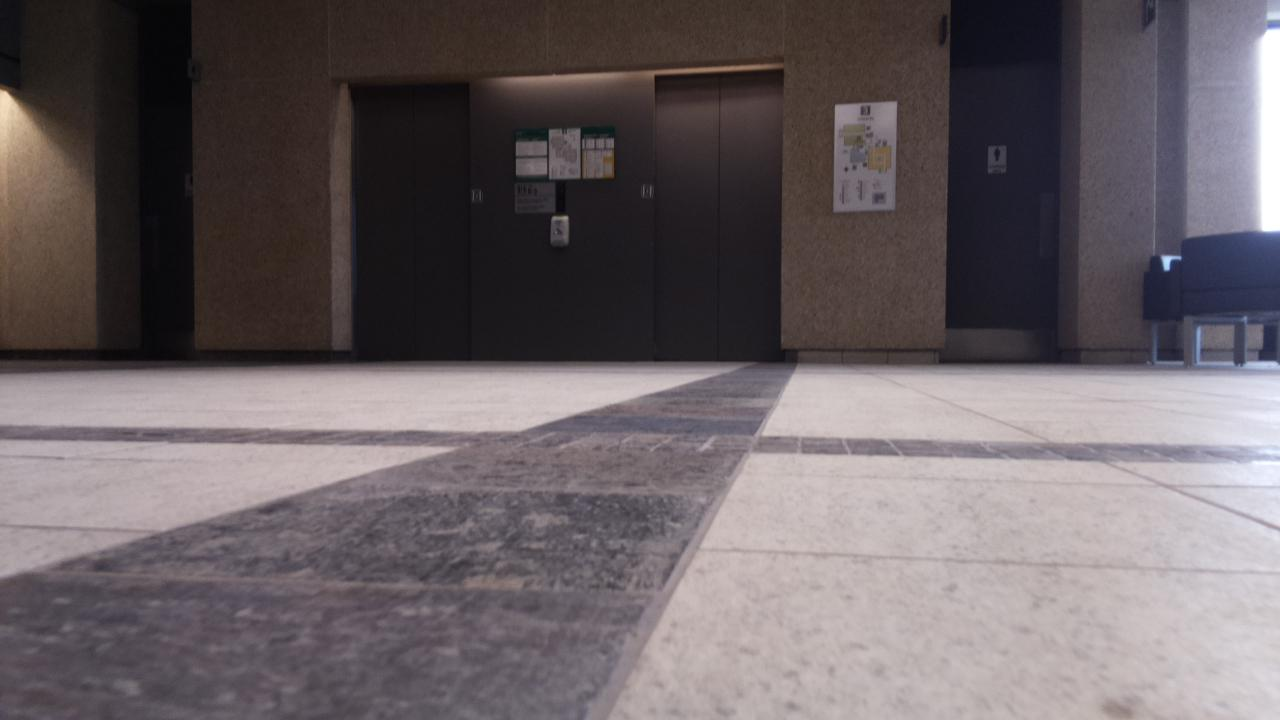door: (655, 68, 782, 356), (945, 71, 1060, 361), (353, 85, 469, 360)
sign: (833, 102, 896, 211), (514, 123, 616, 181), (988, 145, 1005, 172)
